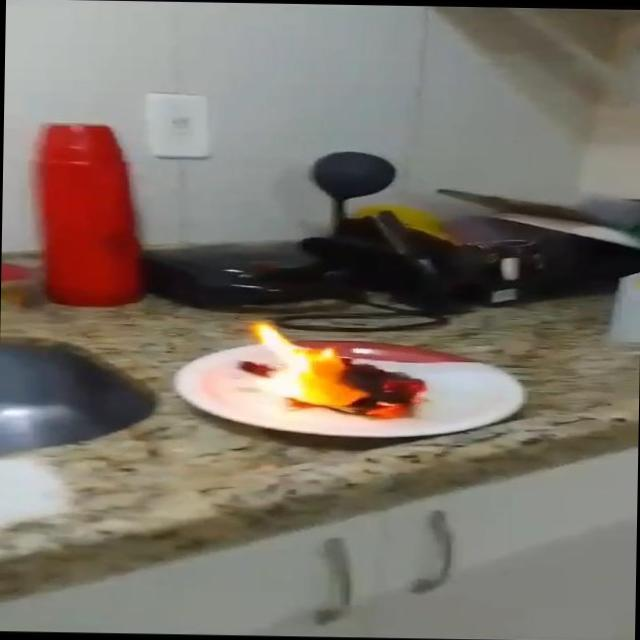Fire: (246, 318, 428, 419)
